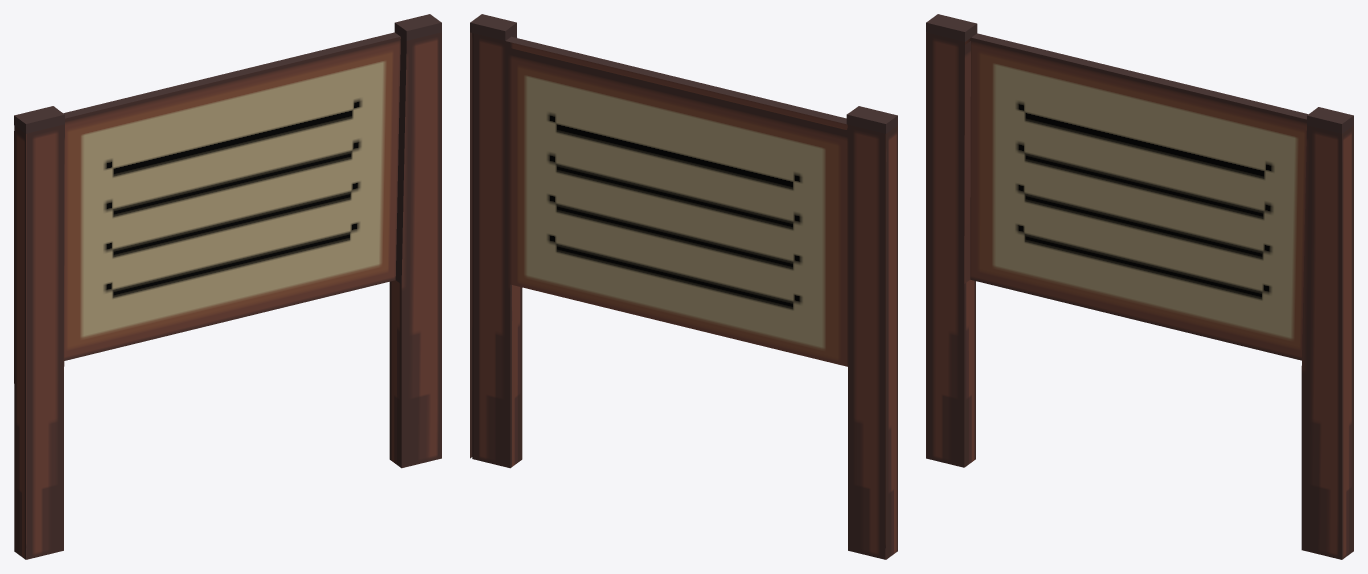
Rendered from Sign_01.fbx.
3 views of the same model, side by side, from view 1: azimuth 30°, elevation 25°; view 2: azimuth 150°, elevation 25°; view 3: azimuth 330°, elevation 25° (orthographic).
Visible parts, largest first — view 1: objec 3000pxt.003; view 2: objec 3000pxt.003; view 3: objec 3000pxt.003.
Boxes of the visible parts, left/top/right/bottom form: objec 3000pxt.003: left=14, top=14, right=441, bottom=559; objec 3000pxt.003: left=470, top=14, right=897, bottom=559; objec 3000pxt.003: left=926, top=14, right=1353, bottom=559.
Size of the model in its own units: 90.52 by 90.65 by 4.46.
